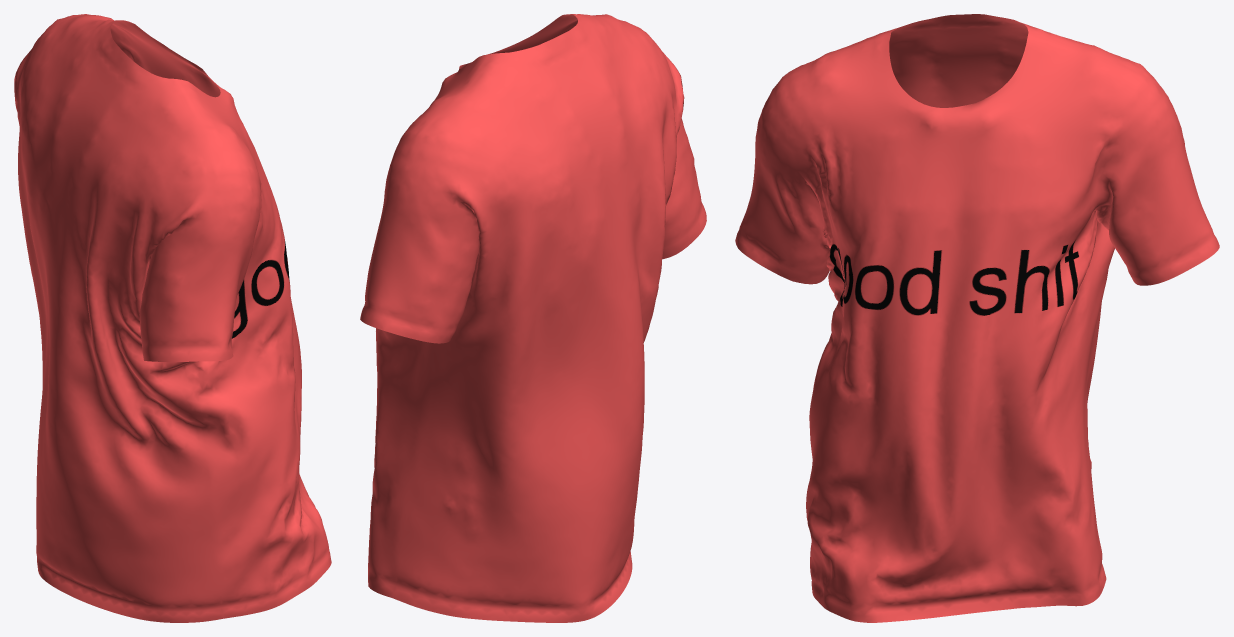
File: 1762309555757-lugaFata.glb
3 renders of one model, left to right at view 1: azimuth 30°, elevation 25°; view 2: azimuth 150°, elevation 25°; view 3: azimuth 270°, elevation 25°, orthographic. The views are drawn at different scales.
Parts seen in each view (by area): view 1: Material1722, Material1718, Material1724, Material1720; view 2: Material1722, Material1724, Material1718, Material1720; view 3: Material1718, Material1724, Material1722, Material1720.
Part boxes in pixels (bbox=[...]): Material1722: bbox=[14, 14, 223, 622]; Material1718: bbox=[88, 14, 331, 618]; Material1724: bbox=[16, 29, 260, 362]; Material1720: bbox=[102, 20, 230, 105]; Material1722: bbox=[392, 14, 677, 622]; Material1724: bbox=[360, 41, 706, 343]; Material1718: bbox=[368, 14, 629, 597]; Material1720: bbox=[454, 14, 586, 76]; Material1718: bbox=[776, 35, 1144, 622]; Material1724: bbox=[735, 75, 1219, 285]; Material1722: bbox=[783, 20, 1151, 586]; Material1720: bbox=[876, 14, 1038, 119].
Bounding box in the file's own units: 32.85 × 70.89 × 56.91.
4 materials, 2 textured.
